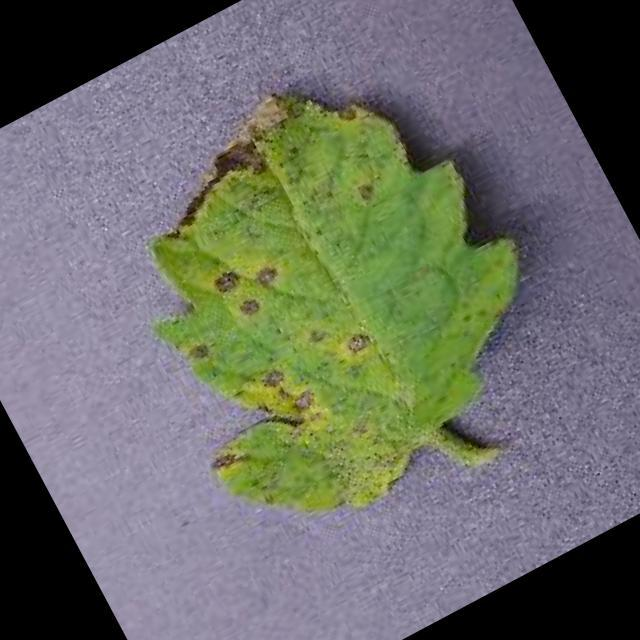Tomato Septoria spot leaf: (72, 22, 590, 555)
